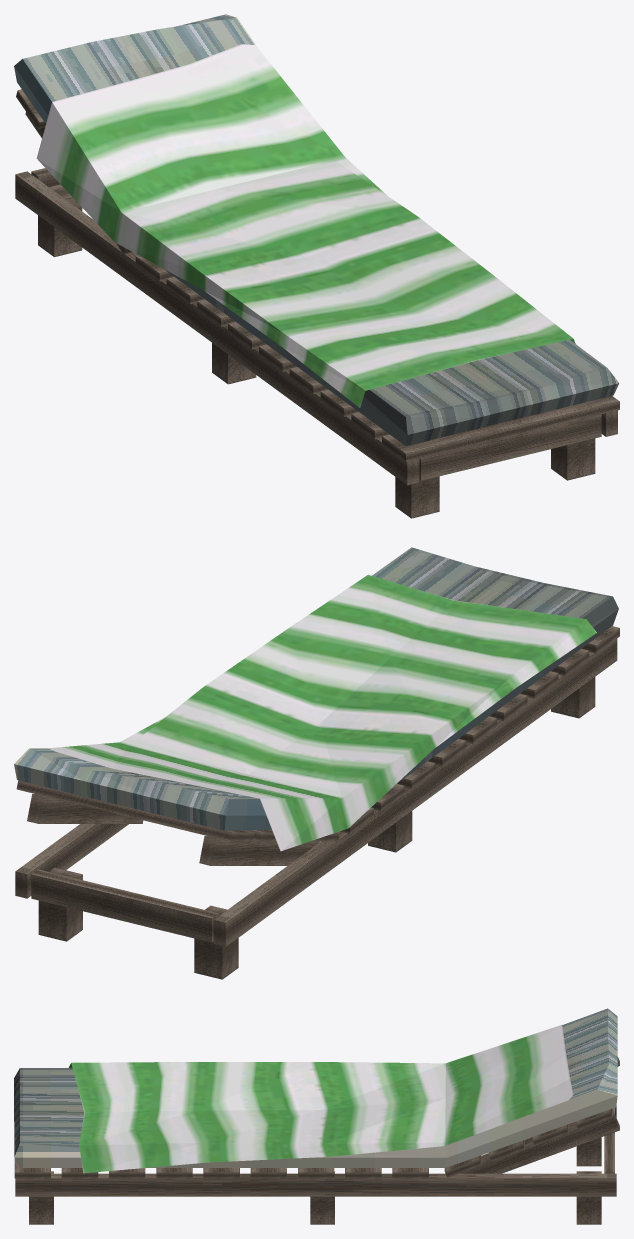
File: lounge_towel_up.obj
The picture shows the model from 3 angles, top to bottom: view 1: azimuth 30°, elevation 25°; view 2: azimuth 150°, elevation 25°; view 3: azimuth 270°, elevation 25°; orthographic projection. The views are drawn at different scales.
Parts seen in each view (by area): view 1: lounge_towel_up; view 2: lounge_towel_up; view 3: lounge_towel_up.
Boxes of the visible parts, left/top/right/bottom form: lounge_towel_up: left=14, top=14, right=619, bottom=518; lounge_towel_up: left=14, top=547, right=619, bottom=979; lounge_towel_up: left=14, top=1008, right=619, bottom=1224.
Size of the model in its own units: 0.7726 by 0.5803 by 2.23.
27 materials, 27 textured.
